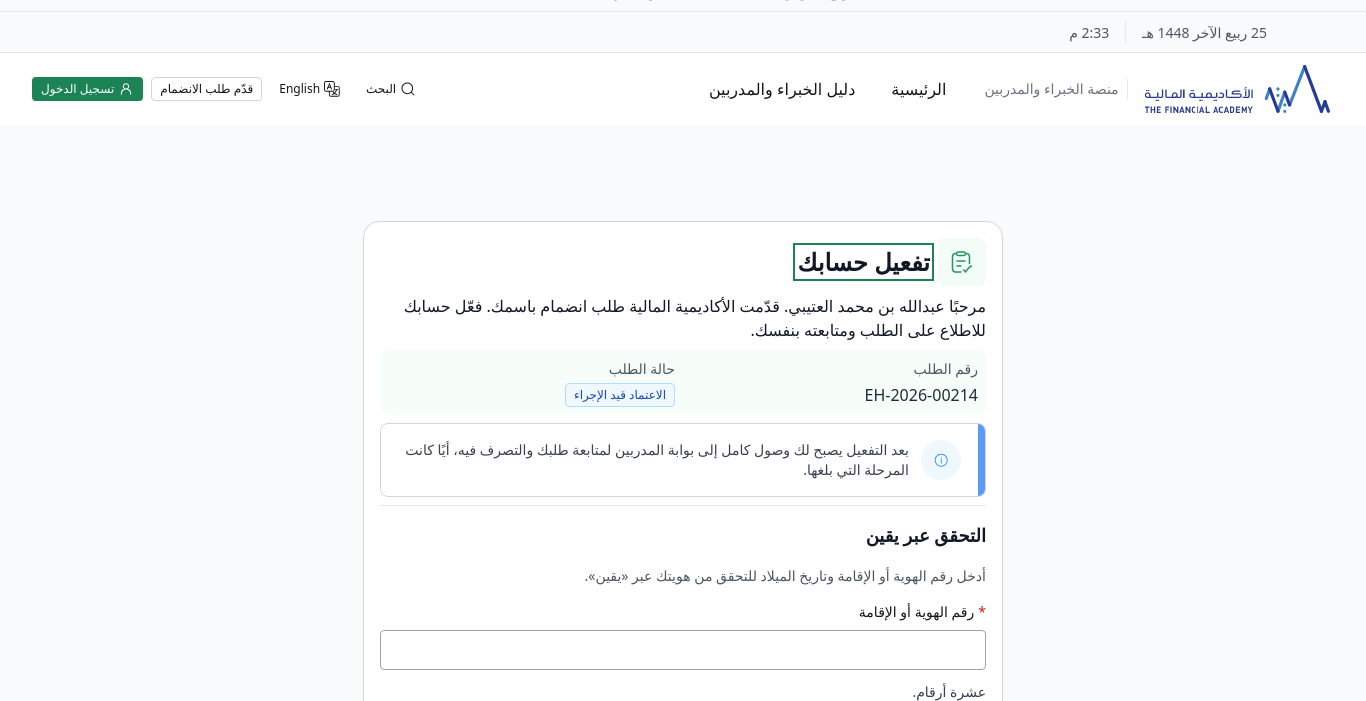
Test: J-02/F4 — Nominee Account Activation & Portal Access › J-02/F4/AC-2: a Yaqeen failure blocks activation with J-01’s handling
The width and height of the screenshot is (1366, 701).
Expected: the heading "تفعيل حسابك" is shown, [798,247,930,277]
Type "1000000000" into the field labelled "رقم الهوية أو الإقامة" at coordinates (687, 650), box [397,631,977,669]
(page scrolled)
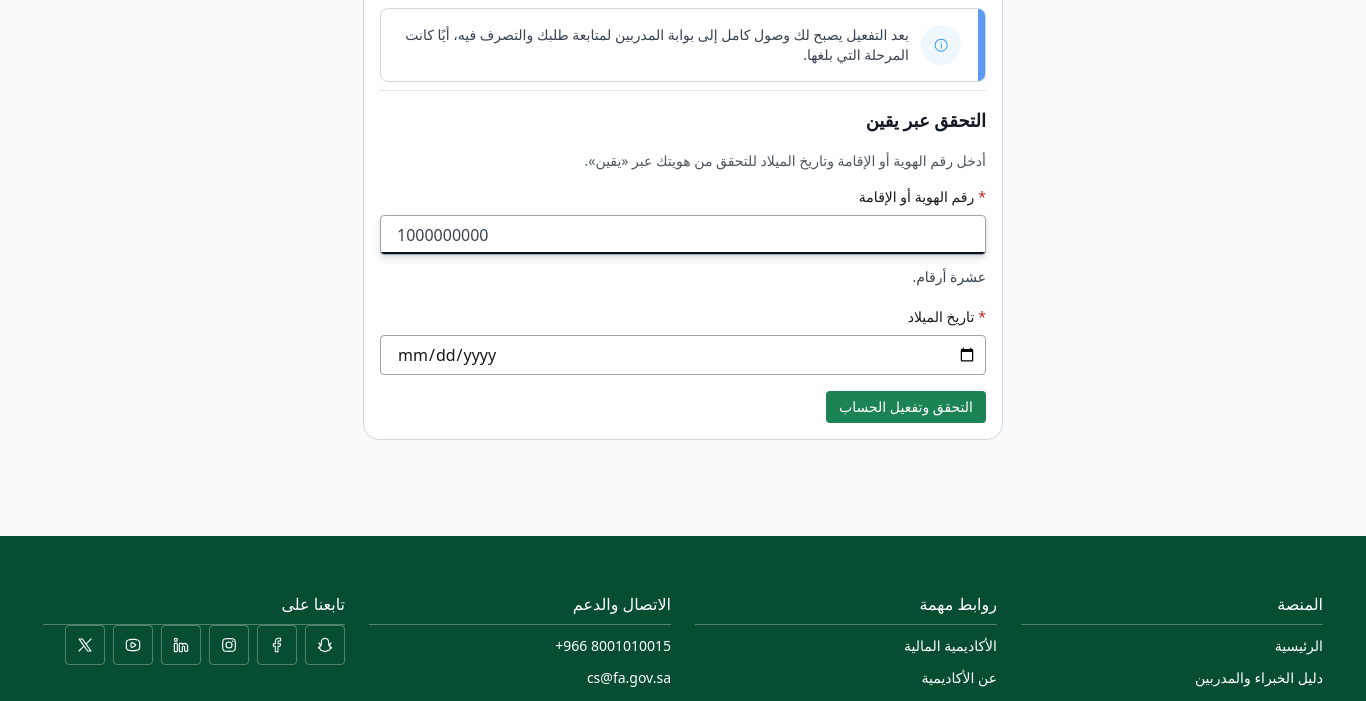
Type "1990-01-01" into the date field labelled "تاريخ الميلاد" at coordinates (687, 355), box [397,336,977,374]
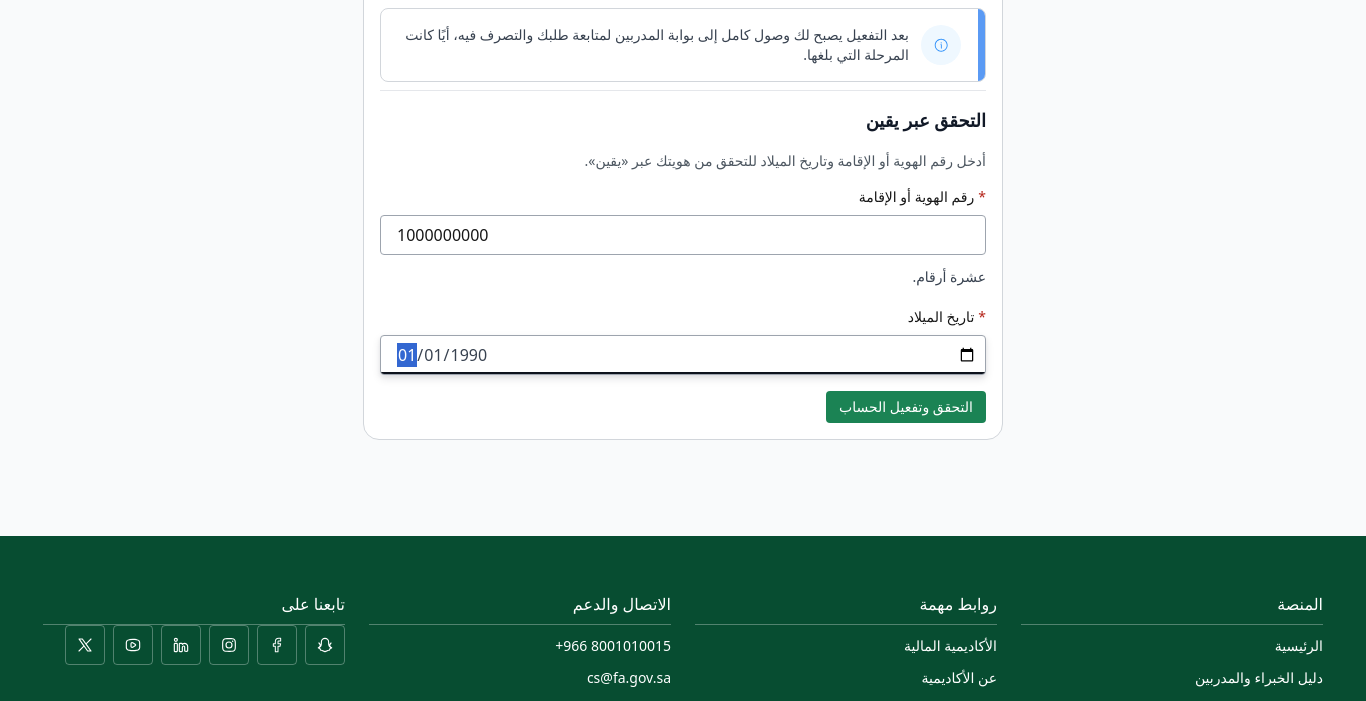
Click the button "التحقق وتفعيل الحساب" at coordinates (906, 407), box [826,391,986,423]
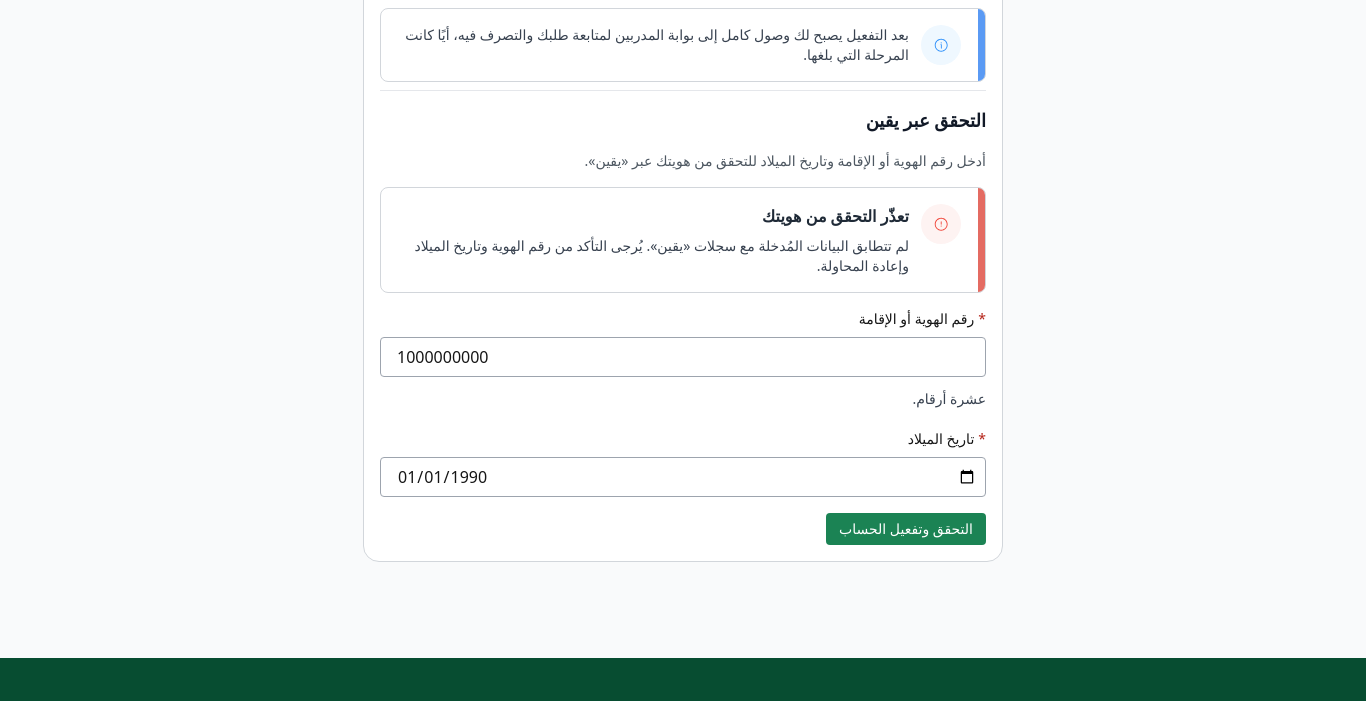
Now the text "تعذّر التحقق من هويتك" is shown, box [762,205,909,227]
